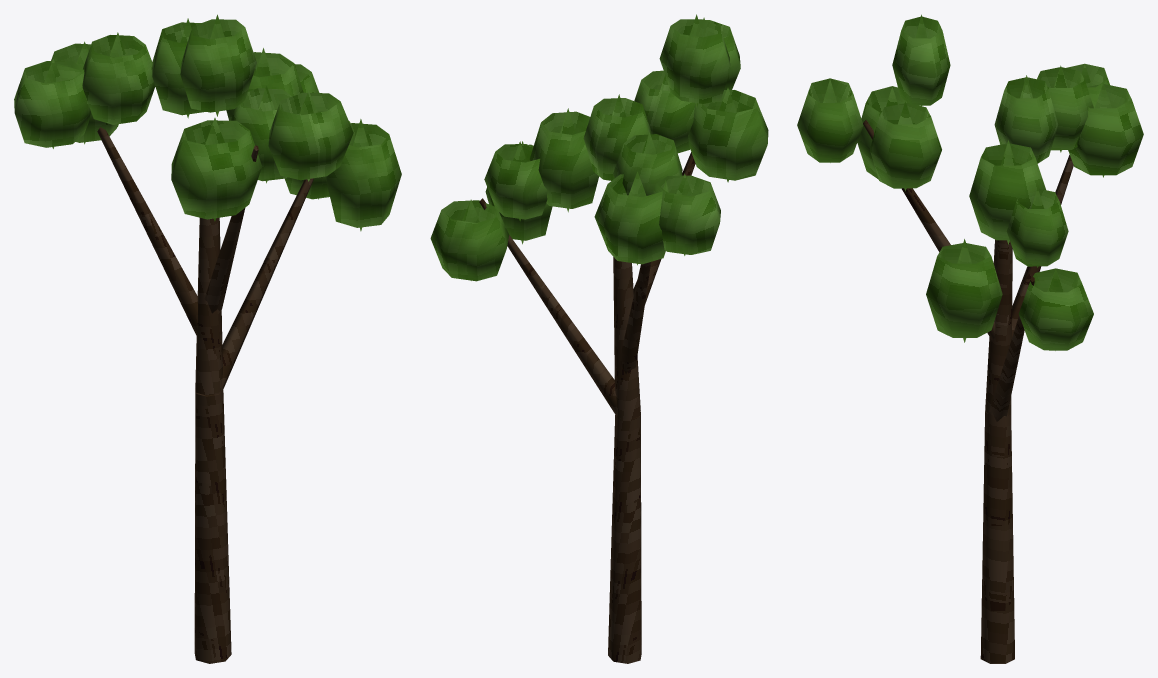
File: tree01-lod1.glb
3 views of the same model, side by side, from view 1: azimuth 30°, elevation 25°; view 2: azimuth 150°, elevation 25°; view 3: azimuth 270°, elevation 25° (orthographic). The views are drawn at different scales.
Parts seen in each view (by area): view 1: TZ_deciduous_broadleaf_Batch_01_LOD1, TZ_deciduous_broadleaf_Batch_00_LOD1; view 2: TZ_deciduous_broadleaf_Batch_01_LOD1, TZ_deciduous_broadleaf_Batch_00_LOD1; view 3: TZ_deciduous_broadleaf_Batch_01_LOD1, TZ_deciduous_broadleaf_Batch_00_LOD1.
Part boxes in pixels (x1=…): TZ_deciduous_broadleaf_Batch_01_LOD1: x1=14, y1=14, x2=401, y2=231; TZ_deciduous_broadleaf_Batch_00_LOD1: x1=97, y1=127, x2=314, y2=663; TZ_deciduous_broadleaf_Batch_01_LOD1: x1=430, y1=14, x2=768, y2=281; TZ_deciduous_broadleaf_Batch_00_LOD1: x1=479, y1=152, x2=695, y2=663; TZ_deciduous_broadleaf_Batch_01_LOD1: x1=797, y1=14, x2=1143, y2=350; TZ_deciduous_broadleaf_Batch_00_LOD1: x1=863, y1=120, x2=1073, y2=663.
Size of the model in its own units: 4.58 by 9.2 by 4.61.
2 materials, 2 textured.
